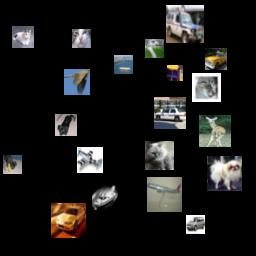airplane: (147, 177, 182, 212), (77, 147, 103, 173)
automobile: (166, 5, 204, 43), (51, 203, 86, 238), (154, 97, 186, 129), (205, 48, 227, 70), (186, 215, 205, 234)
bird: (64, 69, 90, 95), (145, 39, 164, 58)
cat: (192, 73, 221, 102), (145, 141, 174, 170), (12, 26, 34, 48), (72, 29, 91, 48)
deer: (199, 115, 231, 147)
dog: (207, 156, 242, 191), (55, 114, 77, 136), (3, 155, 22, 174)
ship: (92, 184, 118, 210), (114, 55, 133, 74)
truck: (167, 65, 183, 81)
